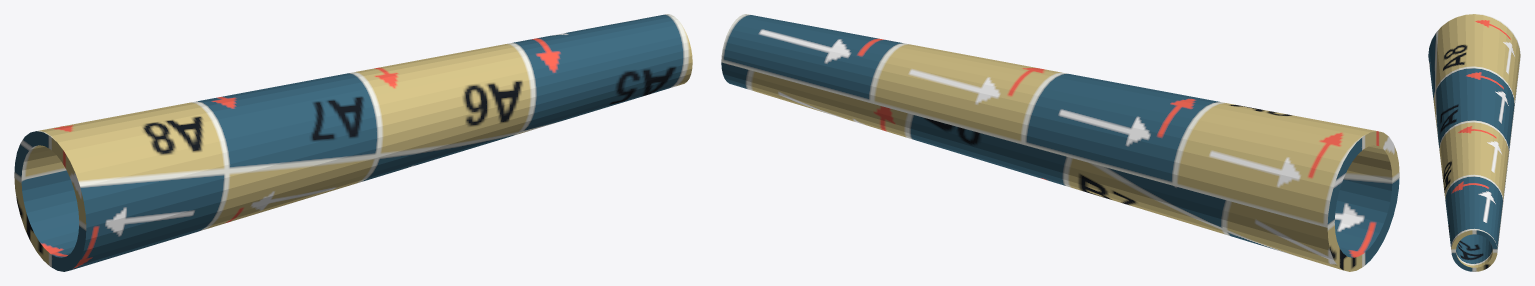
The model's file is PIPE_Reducer.fbx.
The picture shows the model from 3 angles, left to right: view 1: azimuth 30°, elevation 25°; view 2: azimuth 150°, elevation 25°; view 3: azimuth 270°, elevation 25°; orthographic projection. The views are drawn at different scales.
Visible parts, largest first — view 1: PIPE_Reducer; view 2: PIPE_Reducer; view 3: PIPE_Reducer.
Boxes of the visible parts, x1,y1,x2,y2 form: PIPE_Reducer: (14,14,692,271); PIPE_Reducer: (721,14,1399,271); PIPE_Reducer: (1428,14,1520,271).
Size of the model in its own units: 100 by 20 by 20.
1 material, 1 textured.
